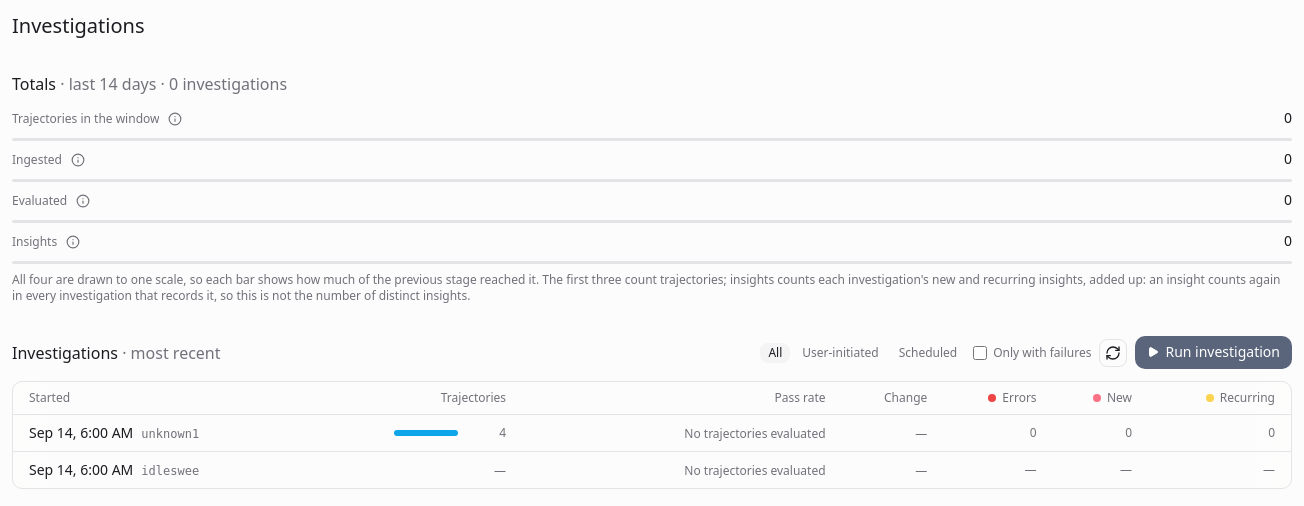
the only-with-failures filter › keeps a sweep it cannot judge while hiding an idle zero-trace sweep
The width and height of the screenshot is (1304, 506).
Expected: the link "unknown1" is shown, [141, 426, 199, 442]
What coordinates should you click on to do the following:
click the checkbox labelled "Only with failures"
I would click on:
 (980, 352)
Its box is [973, 346, 987, 360].
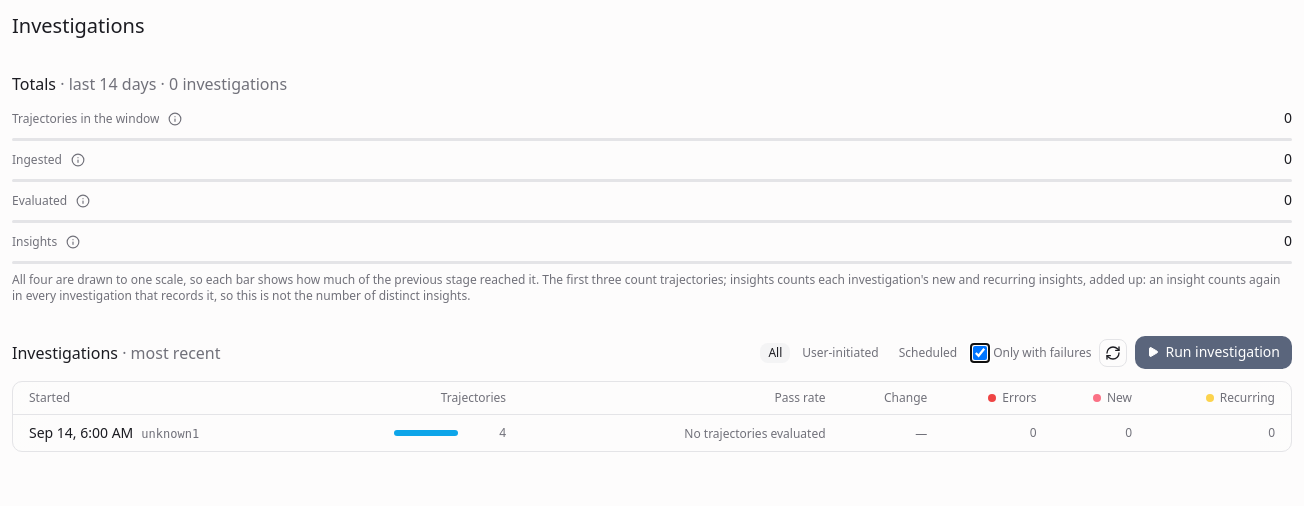
Expected: the link "unknown1" is shown, [141, 426, 199, 442]
Result: the link "idleswee" is gone
